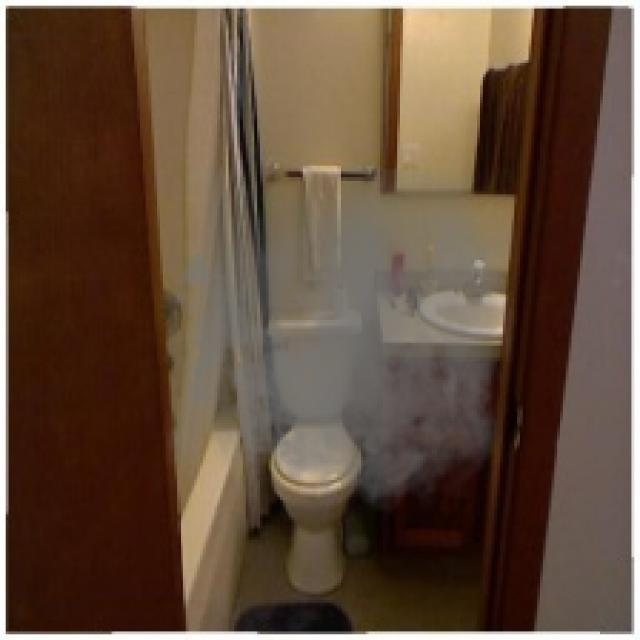Smoke: (165, 168, 518, 523)
